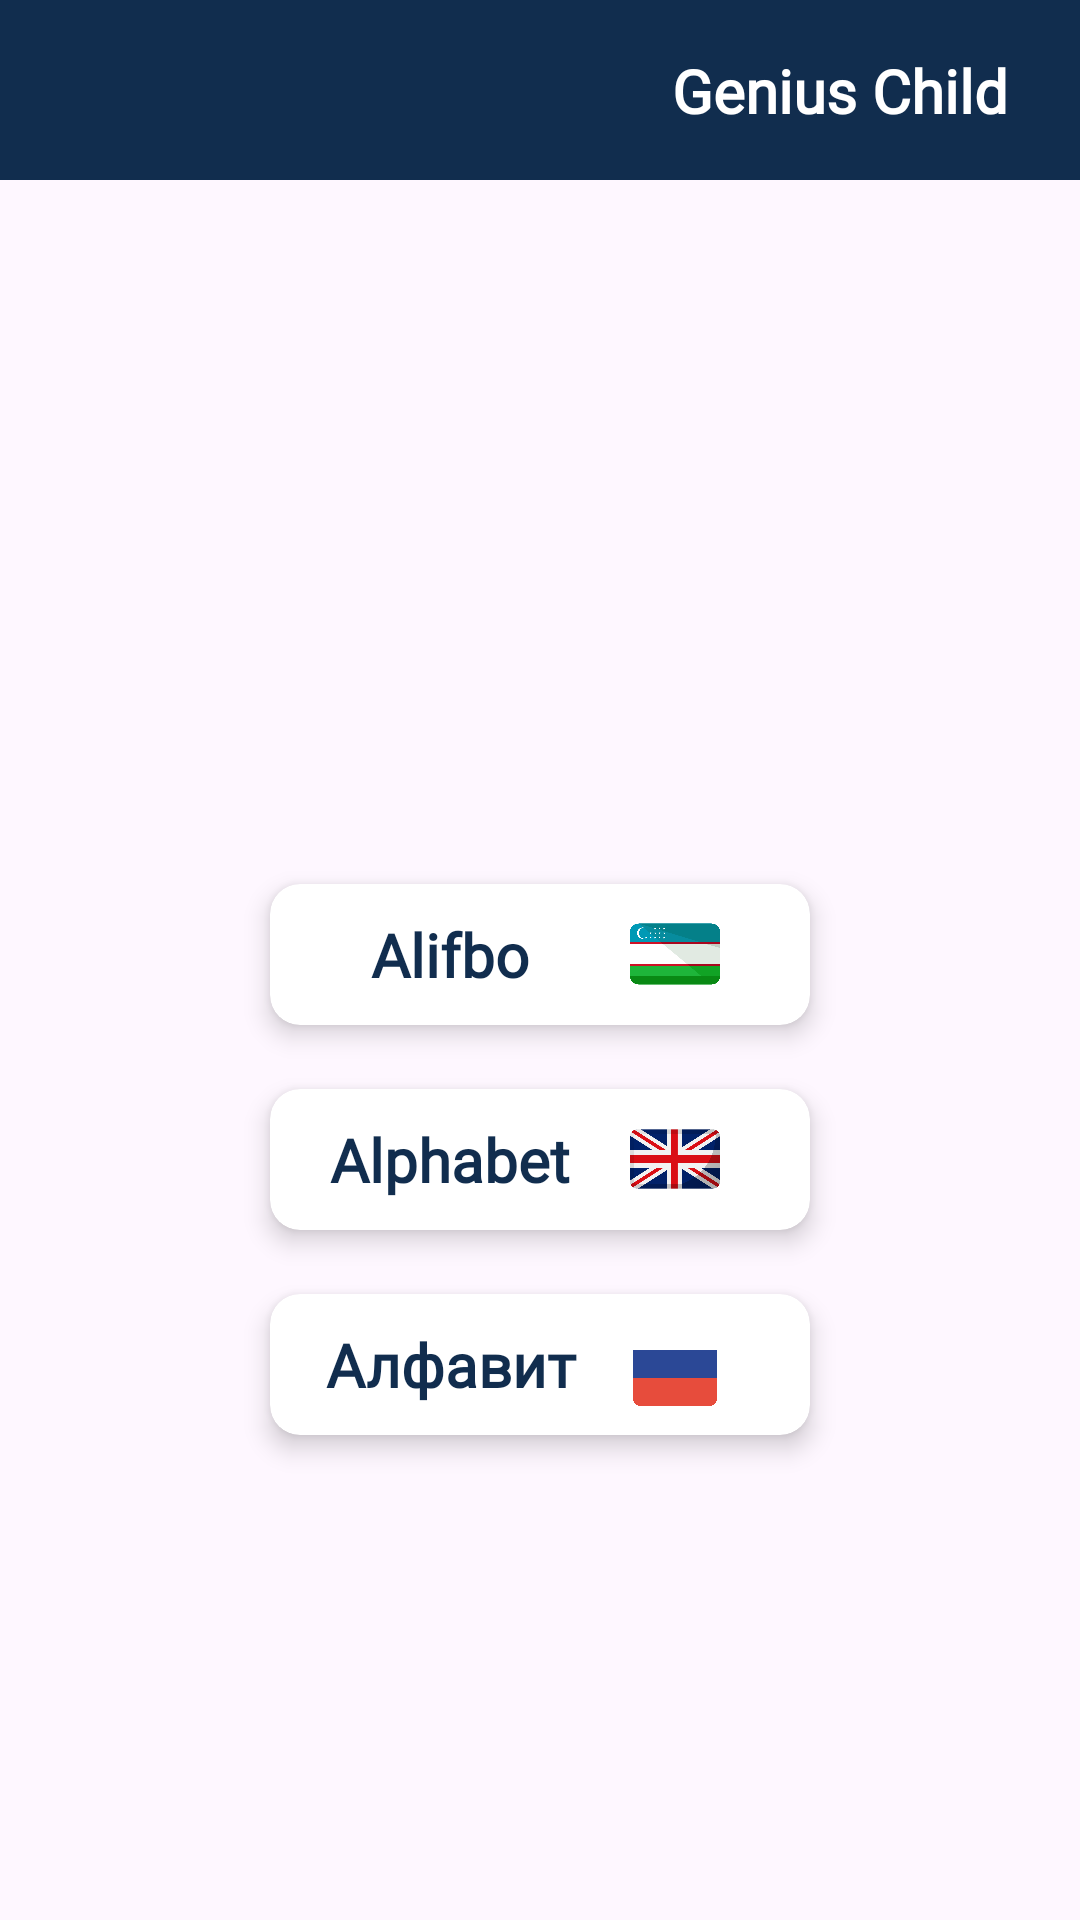

Where to tap for icons on this 1080px×1920px app screen, as point (x, y):
england: point (675, 1159)
russia: point (675, 1378)
uzbekistan: point (675, 954)
